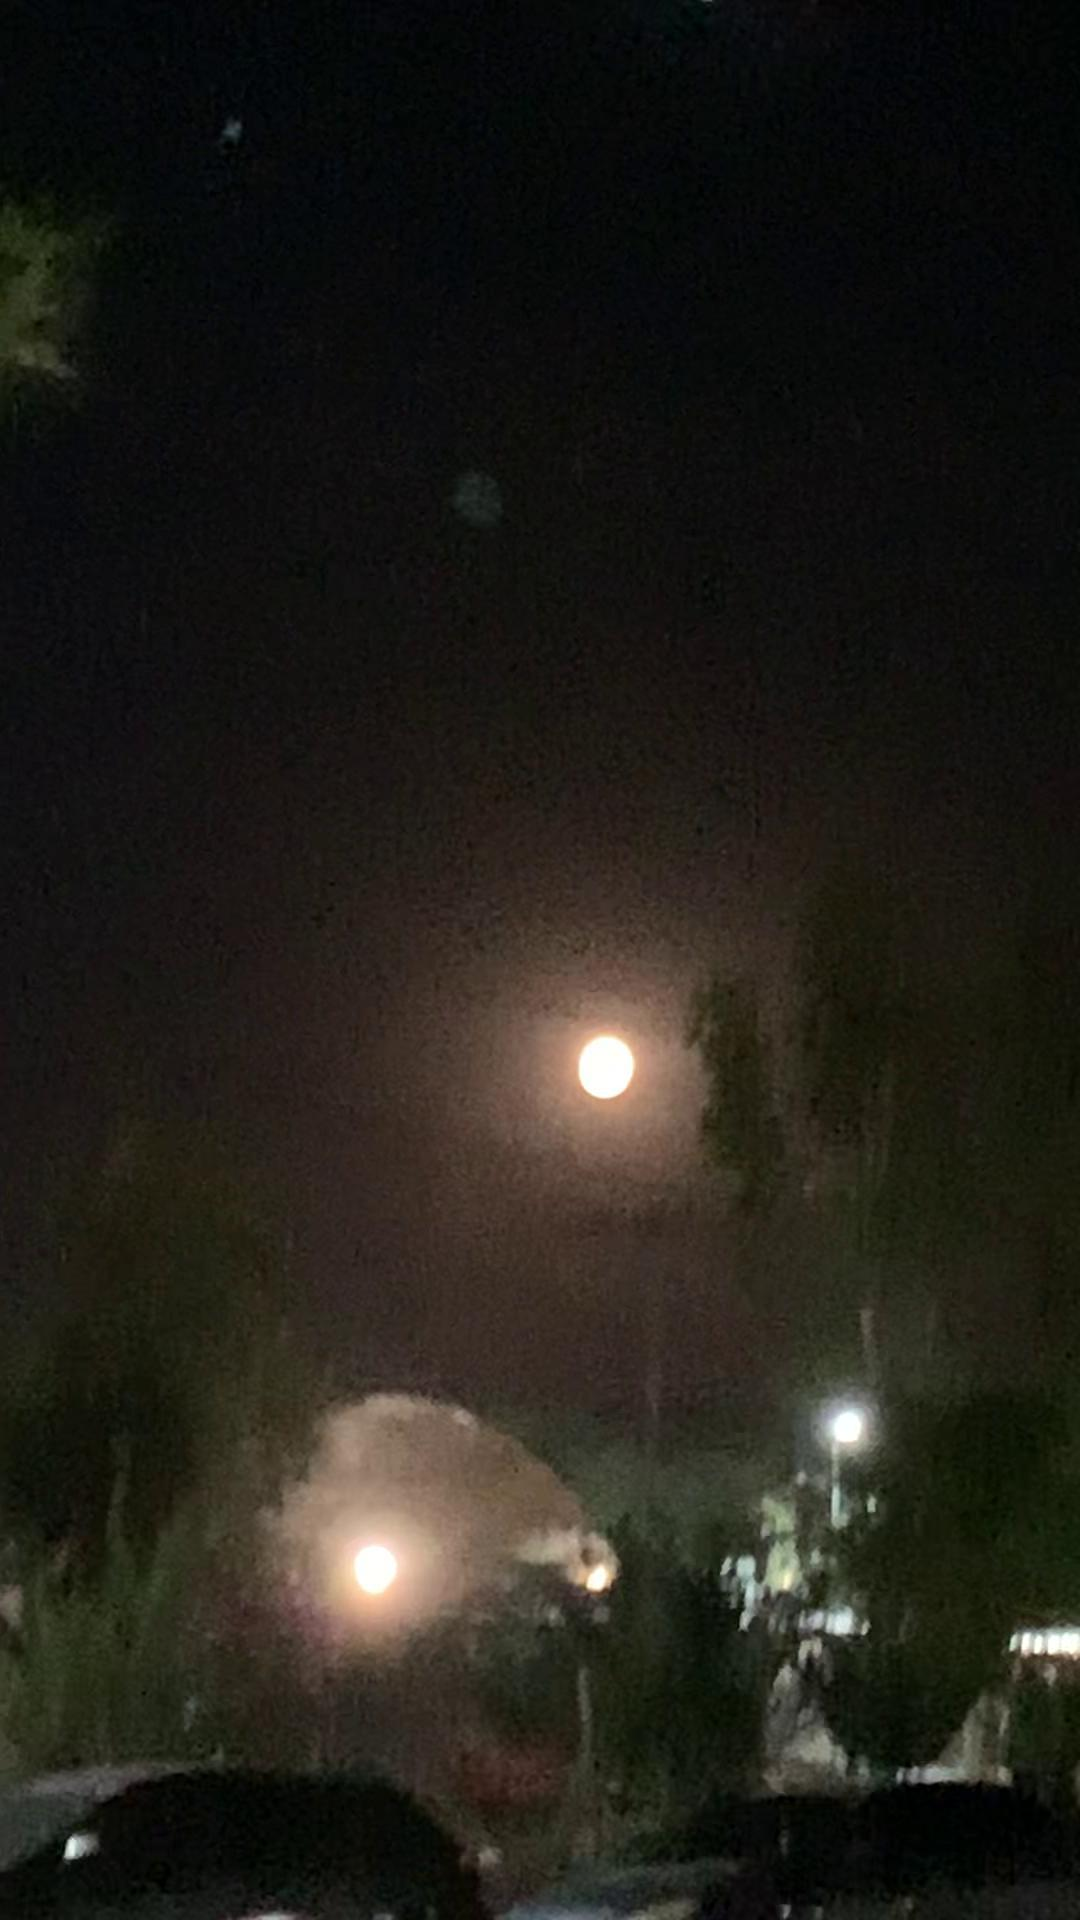moon: (564, 1043, 636, 1114)
